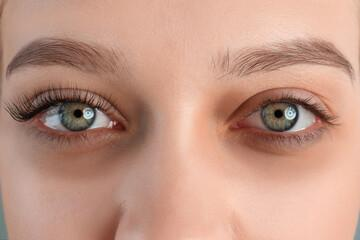Eyebags: (225, 126, 341, 173), (24, 128, 128, 174)
